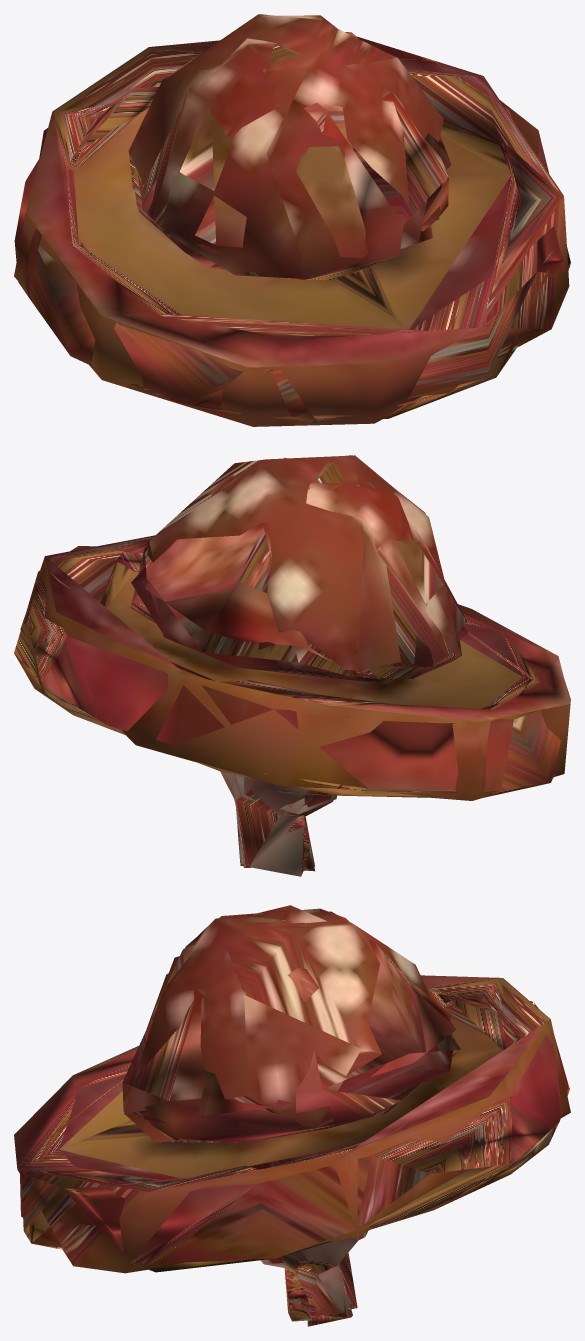
Rendered from chip.glb.
The picture shows the model from 3 angles, top to bottom: view 1: azimuth 30°, elevation 25°; view 2: azimuth 150°, elevation 25°; view 3: azimuth 270°, elevation 25°; orthographic projection. The views are drawn at different scales.
Visible parts, largest first — view 1: geometry_0; view 2: geometry_0; view 3: geometry_0.
Part boxes in pixels (box(x1,y1,x2,y2)): geometry_0: box(14, 14, 570, 426); geometry_0: box(14, 455, 570, 876); geometry_0: box(14, 905, 570, 1326).
Size of the model in its own units: 0.9016 by 0.6946 by 0.8771.
Materials: 1 (1 with a texture image).
